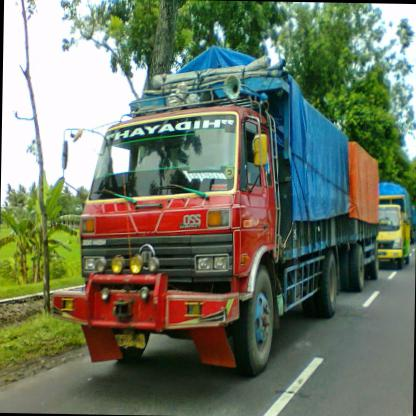truck: (75, 93, 280, 374)
